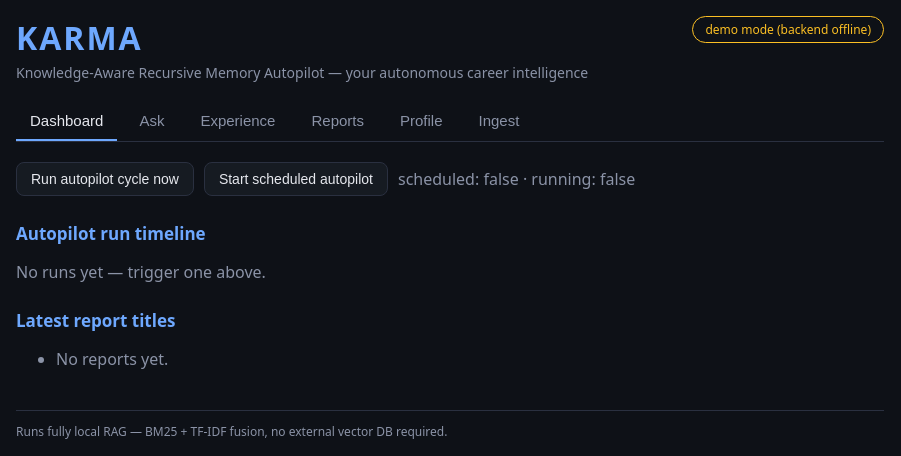
App navigation › navigates tabs
The image size is (901, 456).
What coordinates should you click on to do the following:
click the button with test id "tab-Experience"
I would click on:
 (238, 122)
Its box is [186,102,289,141].
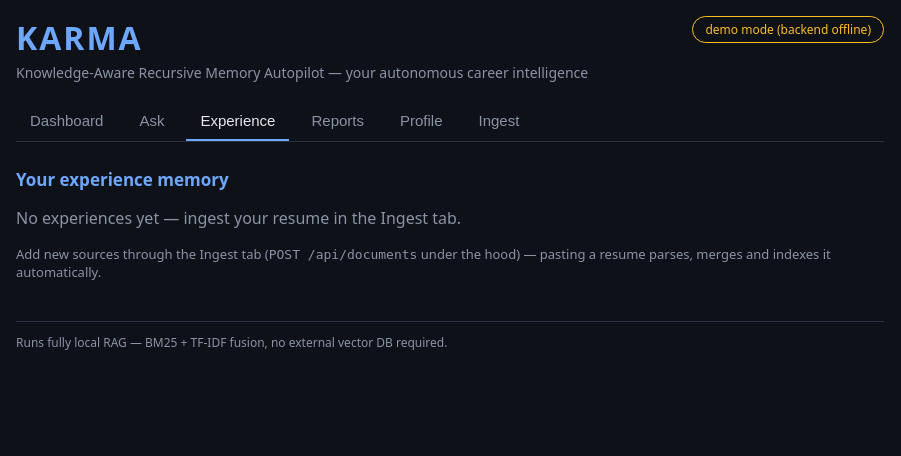
Check: the heading "Your experience memory" is shown, box [16,168,229,191]
What coordinates should you click on to do the following:
click the button with test id "tab-Ask"
I would click on:
 (152, 122)
Its box is [125,102,178,141].
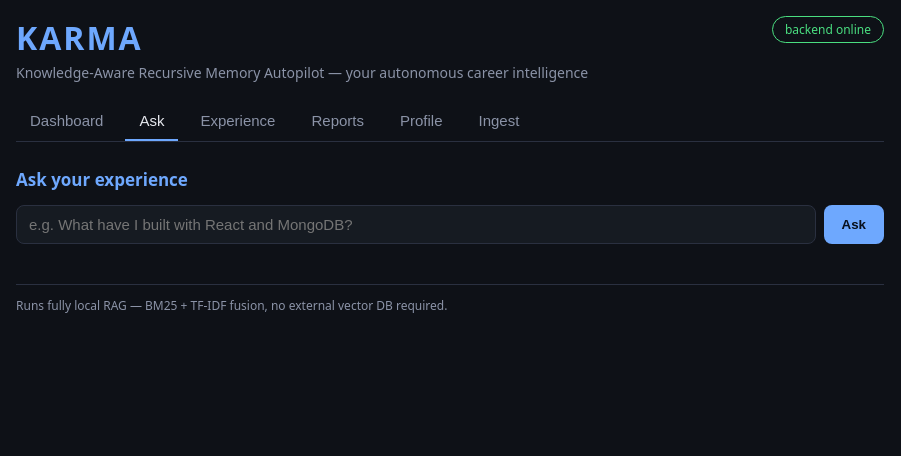
Check: the field with test id "ask-input" is shown, box [16,205,816,244]
